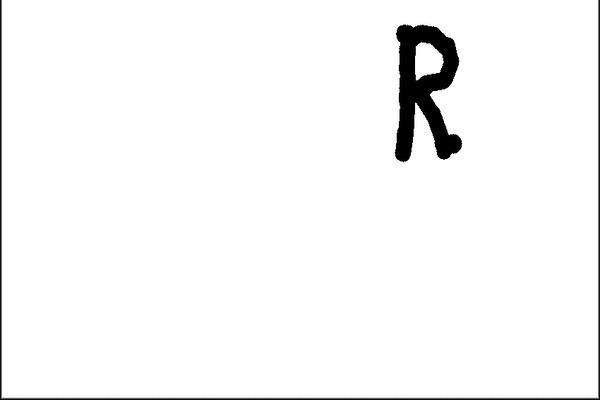R: (386, 11, 467, 162)
